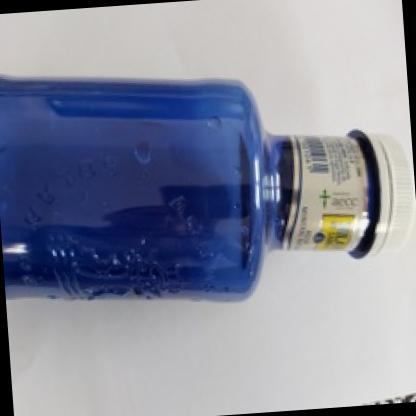plastic_bottles: (0, 47, 416, 339)
